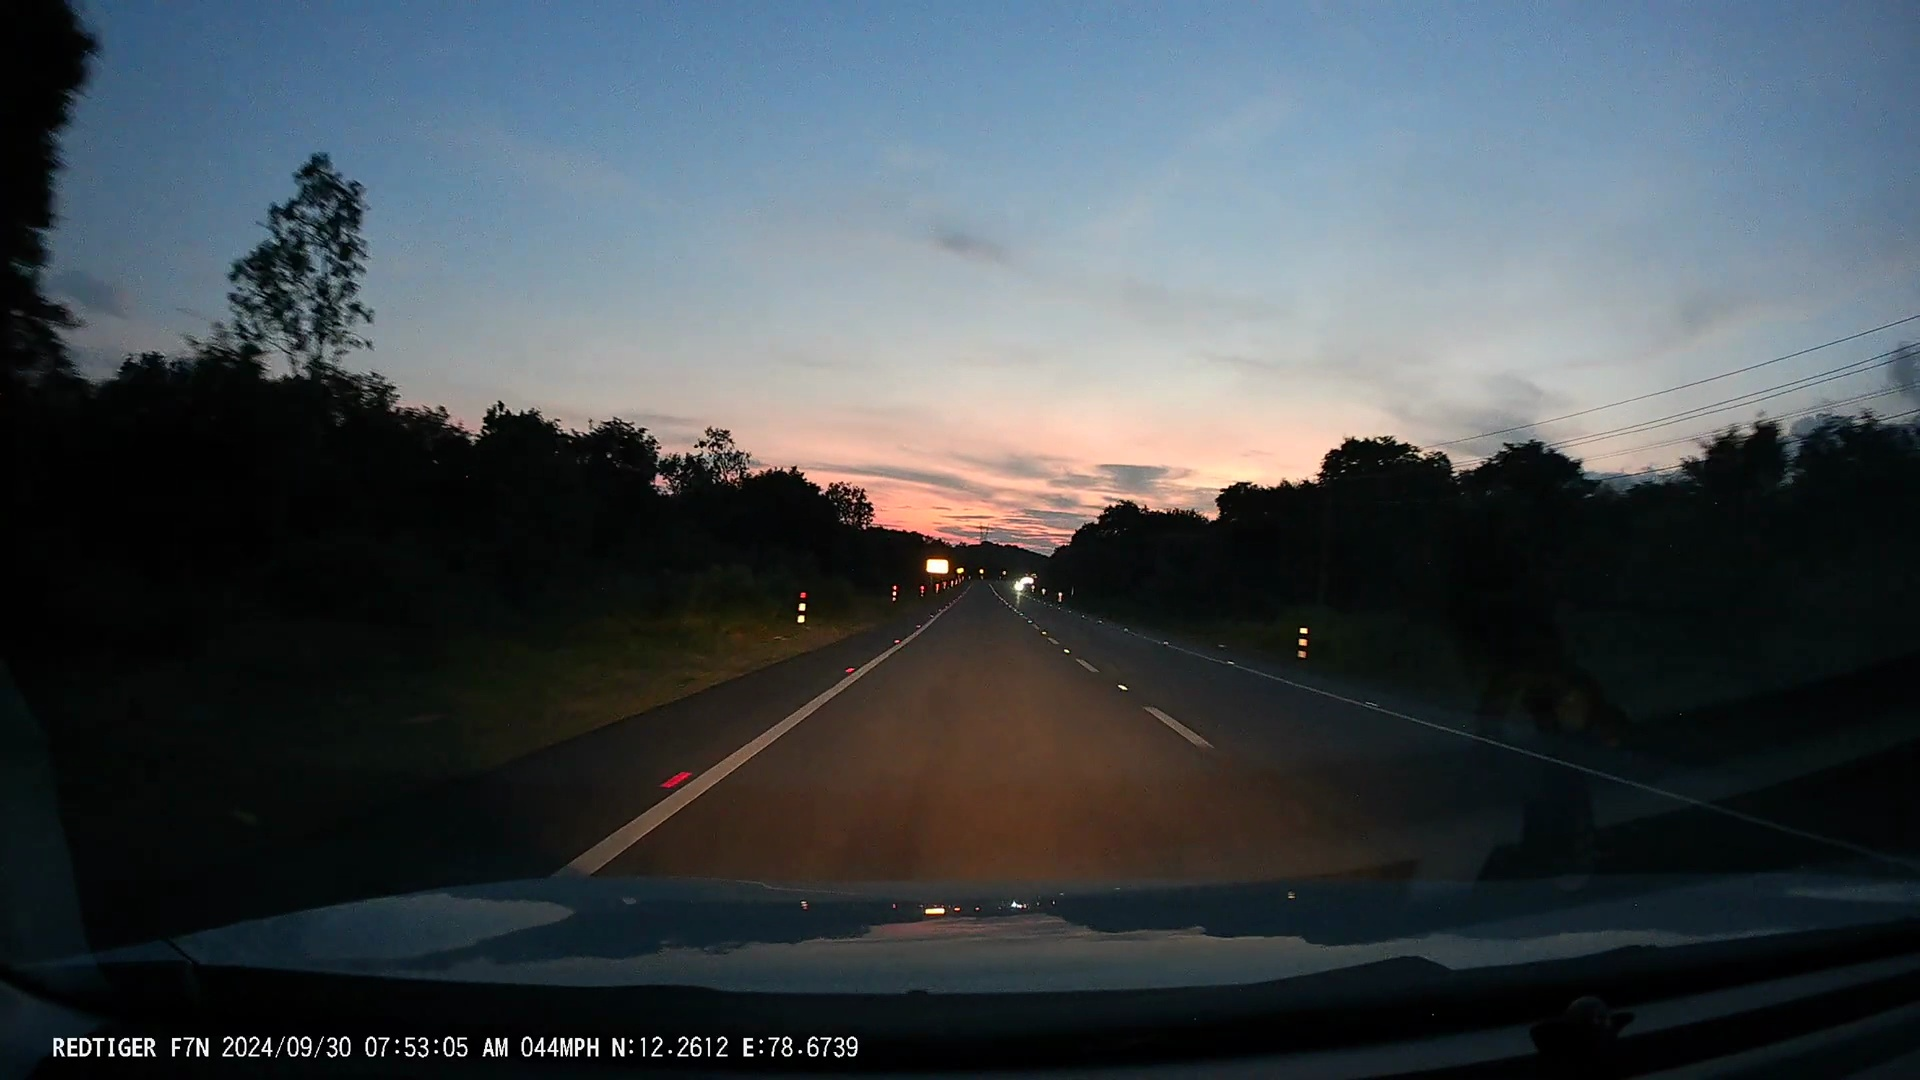headlight: (1010, 578, 1025, 591)
two wheeler: (1001, 572, 1033, 595)
